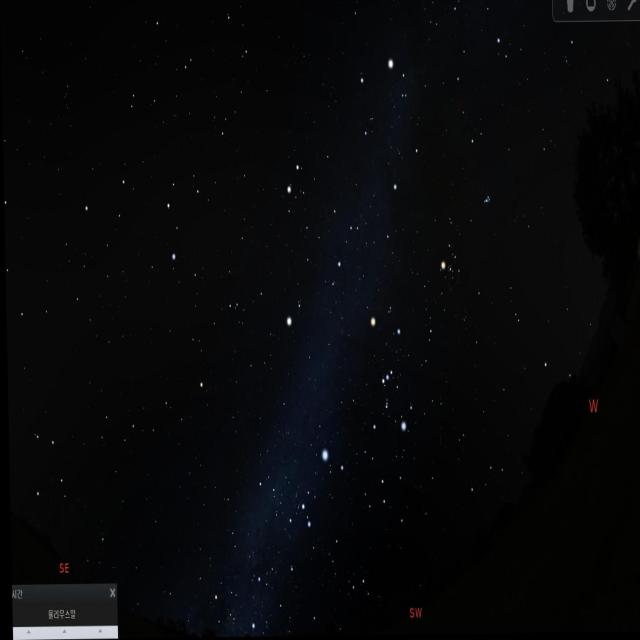canis_major: (299, 440, 348, 529)
canis_minor: (276, 279, 308, 350)
gemini: (275, 148, 372, 296)
leo: (79, 148, 210, 277)
orion: (363, 313, 411, 439)
pleiades: (481, 190, 494, 215)
taurus: (421, 167, 504, 300)
